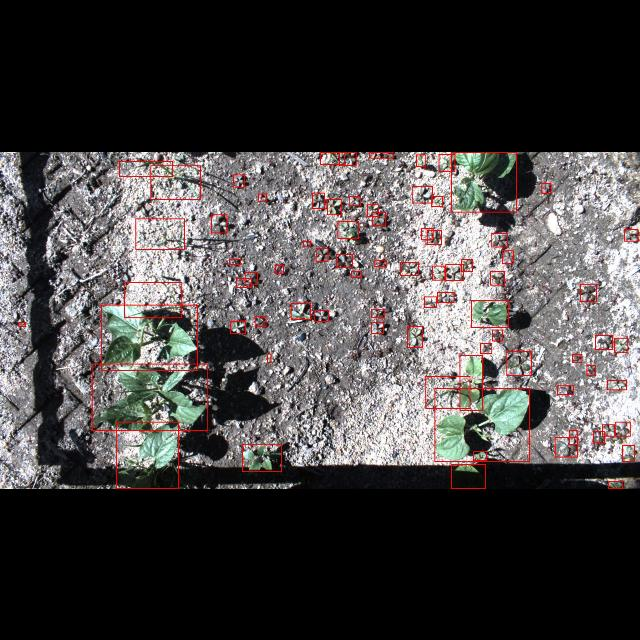crop: (92, 364, 208, 431), (434, 388, 530, 462), (101, 304, 197, 370), (117, 422, 179, 488), (451, 151, 517, 211), (460, 354, 482, 410), (472, 300, 508, 326), (451, 464, 485, 488), (474, 452, 486, 461)
weed: (124, 282, 182, 316), (150, 164, 200, 198), (136, 218, 184, 248), (426, 376, 470, 408), (242, 444, 282, 472), (119, 160, 173, 176), (506, 351, 532, 375), (554, 437, 578, 457), (338, 220, 358, 238), (412, 185, 432, 202), (291, 303, 311, 319), (580, 283, 596, 301), (211, 214, 227, 232), (321, 151, 345, 163), (446, 263, 464, 279), (408, 326, 422, 346), (439, 154, 455, 170), (596, 334, 612, 350), (327, 198, 341, 214), (426, 229, 442, 243), (614, 422, 630, 436), (400, 262, 418, 274), (230, 321, 246, 334), (339, 152, 356, 164), (607, 380, 627, 390), (614, 337, 628, 351), (432, 265, 446, 279), (492, 232, 506, 246), (490, 271, 504, 285), (622, 445, 634, 461), (336, 254, 352, 266), (312, 192, 324, 208), (372, 212, 386, 224), (624, 228, 638, 240), (438, 292, 454, 302), (245, 272, 258, 284), (316, 248, 328, 260), (369, 151, 393, 157), (603, 424, 615, 436), (315, 310, 329, 320), (503, 249, 513, 263), (568, 430, 578, 444), (236, 278, 252, 286), (558, 386, 574, 394), (462, 259, 472, 271), (368, 204, 378, 216), (416, 154, 426, 166), (234, 174, 244, 186), (254, 316, 266, 326), (371, 322, 383, 332), (372, 308, 384, 318), (421, 228, 433, 238), (424, 296, 436, 306), (593, 432, 605, 442), (481, 343, 492, 353), (432, 195, 442, 205), (492, 330, 502, 340), (586, 365, 596, 375), (608, 482, 622, 488), (275, 264, 283, 274), (350, 196, 360, 204), (542, 182, 550, 192), (572, 354, 582, 362), (374, 260, 386, 266), (230, 258, 240, 264), (351, 271, 361, 277), (258, 193, 266, 200), (303, 240, 311, 246), (267, 353, 271, 362), (19, 322, 25, 326)
